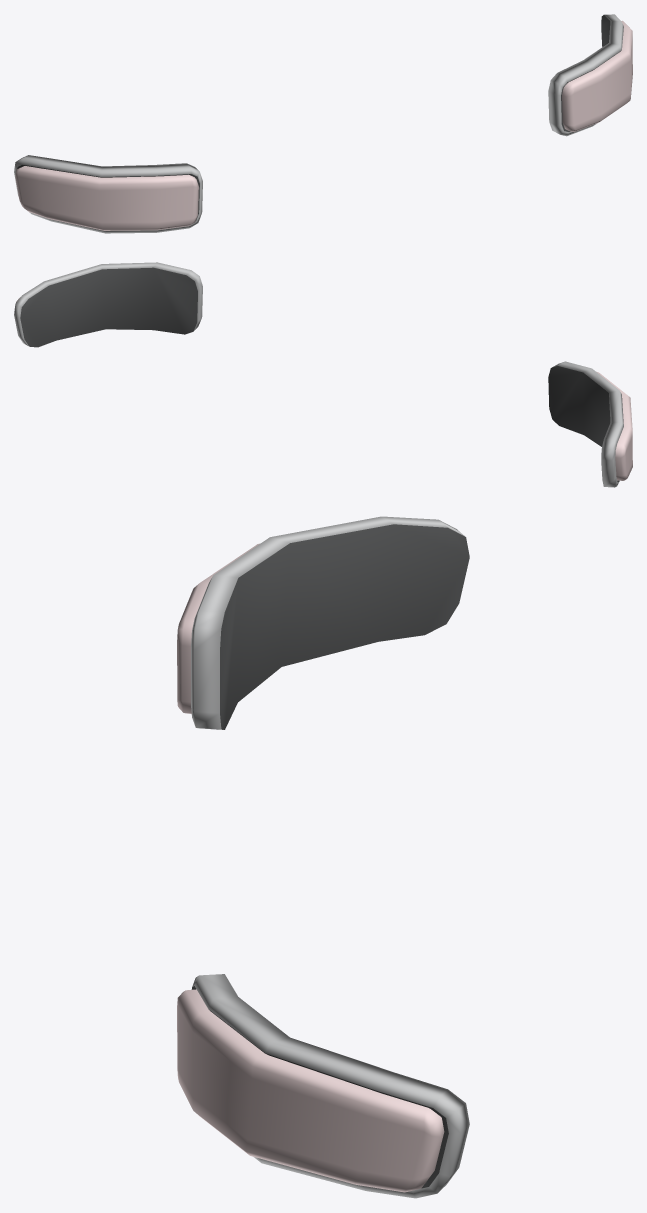
Rendered from Car_13_Headlight_Cool.fbx.
The picture shows the model from 3 angles, top to bottom: view 1: azimuth 30°, elevation 25°; view 2: azimuth 150°, elevation 25°; view 3: azimuth 270°, elevation 25°; orthographic projection. The views are drawn at different scales.
Visible parts, largest first — view 1: Car_13_Headlight_Cool; view 2: Car_13_Headlight_Cool; view 3: Car_13_Headlight_Cool.
Part boxes in pixels (x1=…): Car_13_Headlight_Cool: x1=14, y1=14, x2=632, y2=233; Car_13_Headlight_Cool: x1=14, y1=262, x2=632, y2=487; Car_13_Headlight_Cool: x1=177, y1=516, x2=469, y2=1198.
Bounding box in the file's own units: 157 × 32.65 × 15.48.
